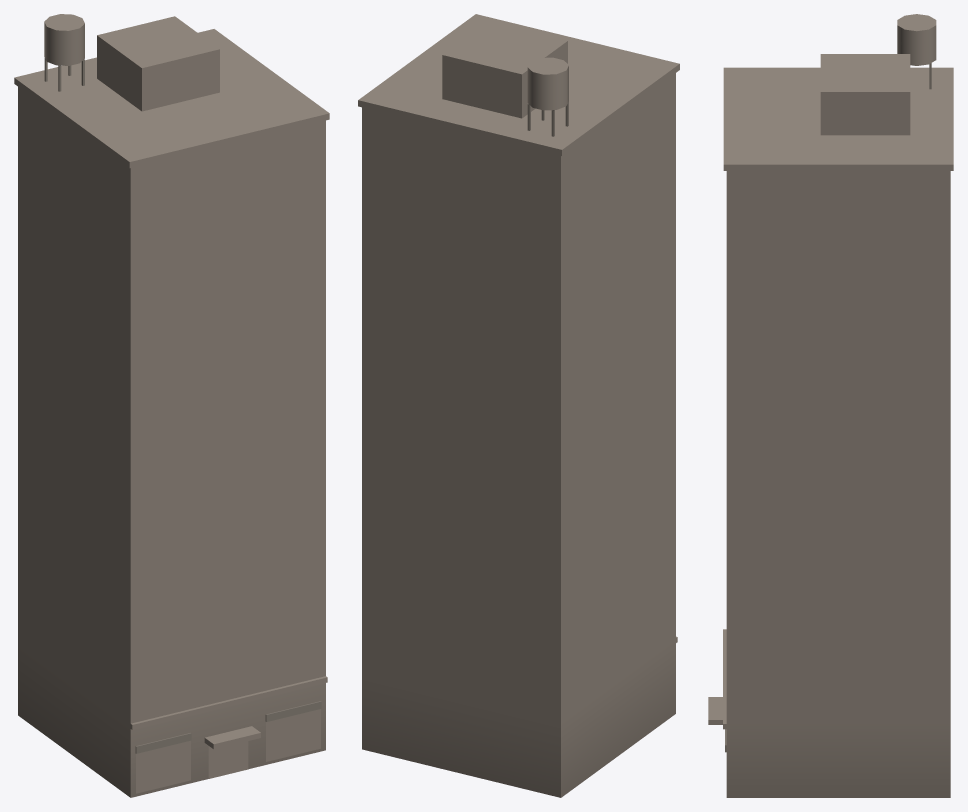
File: tower_brick_b.glb
3 views of the same model, side by side, from view 1: azimuth 30°, elevation 25°; view 2: azimuth 150°, elevation 25°; view 3: azimuth 270°, elevation 25° (orthographic). The views are drawn at different scales.
Visible parts, largest first — view 1: tower_brick_b; view 2: tower_brick_b; view 3: tower_brick_b.
Part boxes in pixels (x1=…): tower_brick_b: x1=14, y1=14, x2=329, y2=797; tower_brick_b: x1=358, y1=14, x2=679, y2=797; tower_brick_b: x1=708, y1=14, x2=953, y2=797.
Bounding box in the file's own units: 20.3 × 67.7 × 21.65.
